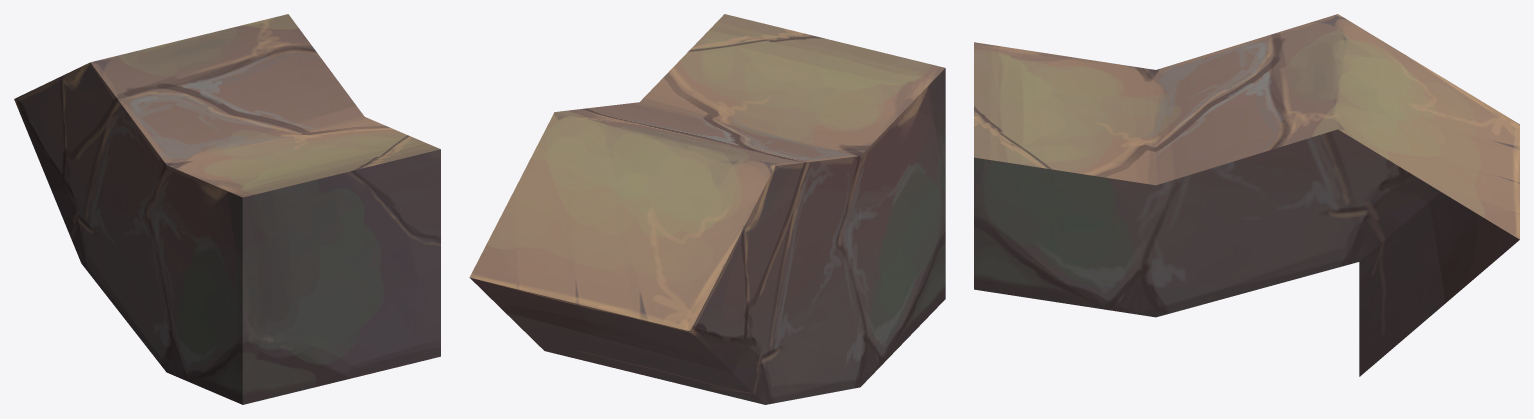
Rendered from Brick01.FBX.
3 views of the same model, side by side, from view 1: azimuth 30°, elevation 25°; view 2: azimuth 150°, elevation 25°; view 3: azimuth 270°, elevation 25° (orthographic). The views are drawn at different scales.
Visible parts, largest first — view 1: Brick01; view 2: Brick01; view 3: Brick01.
Boxes of the visible parts, x1,y1,x2,y2 form: Brick01: (14,14,440,404); Brick01: (469,14,945,404); Brick01: (974,14,1519,376).
Bounding box in the file's own units: 64 × 78.49 × 128.
1 material, 1 textured.
